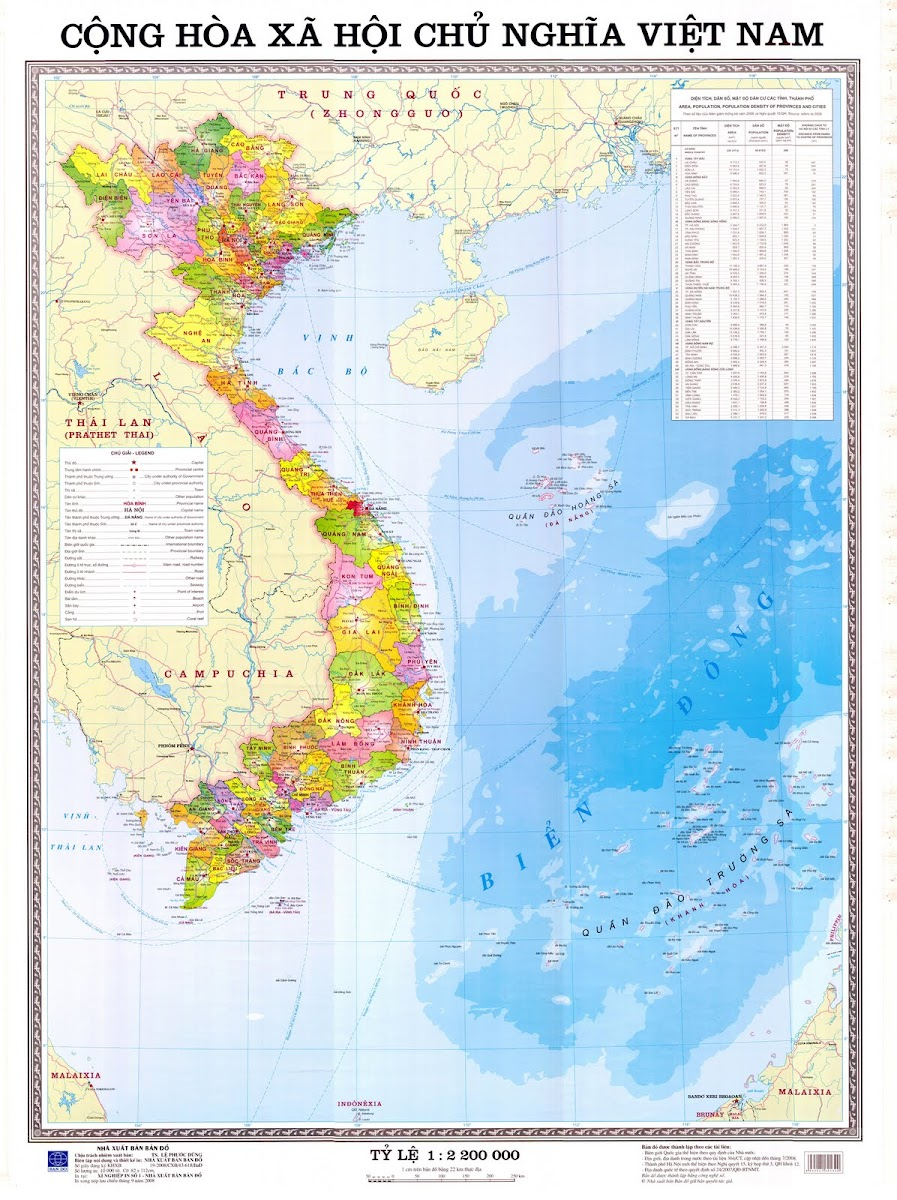Island: (575, 740, 837, 980), (503, 440, 626, 538)
